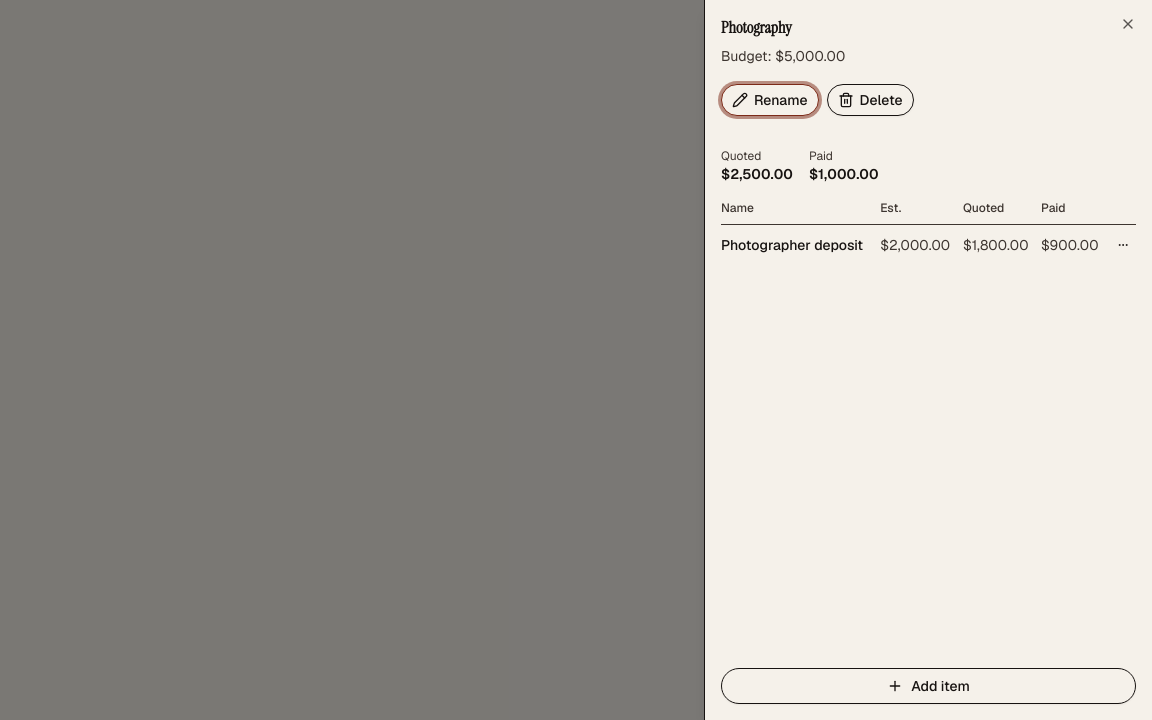
BudgetCategoryPanel › closes a pending delete dialog when the panel switches to a different category
Click the button named "Actions for Photographer deposit".
click(1122, 245)  # box [1110, 233, 1134, 257]
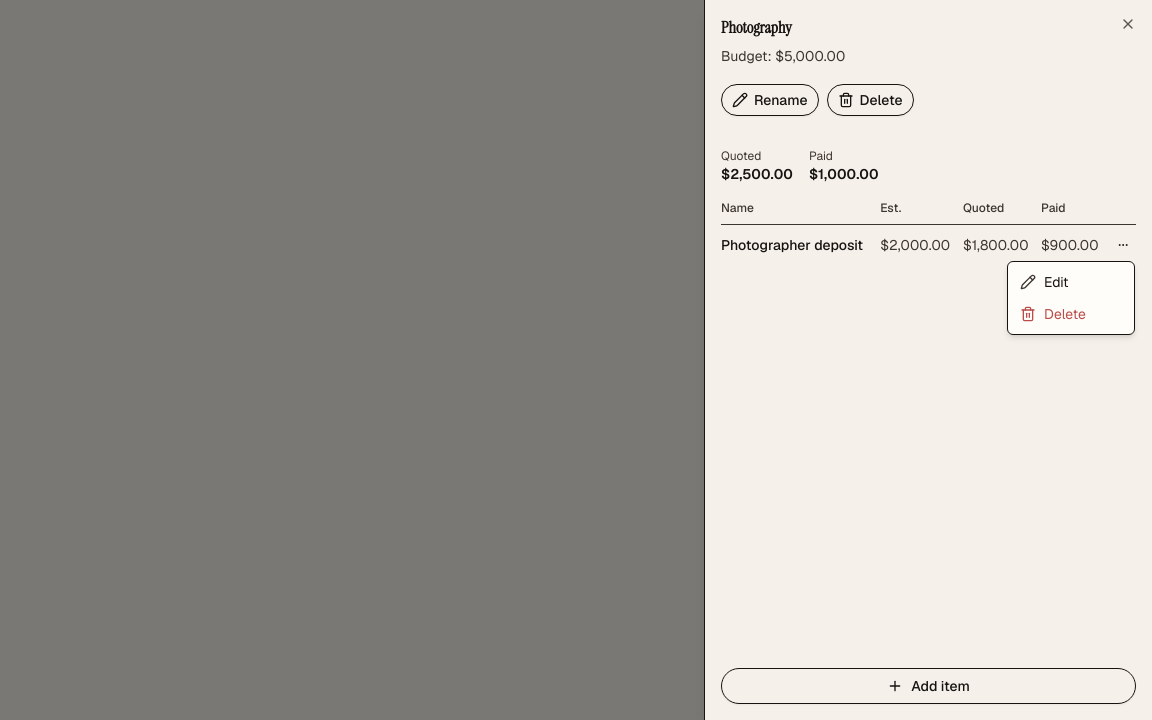
Click the menu item "Delete".
click(1053, 314)  # box [1020, 305, 1086, 323]
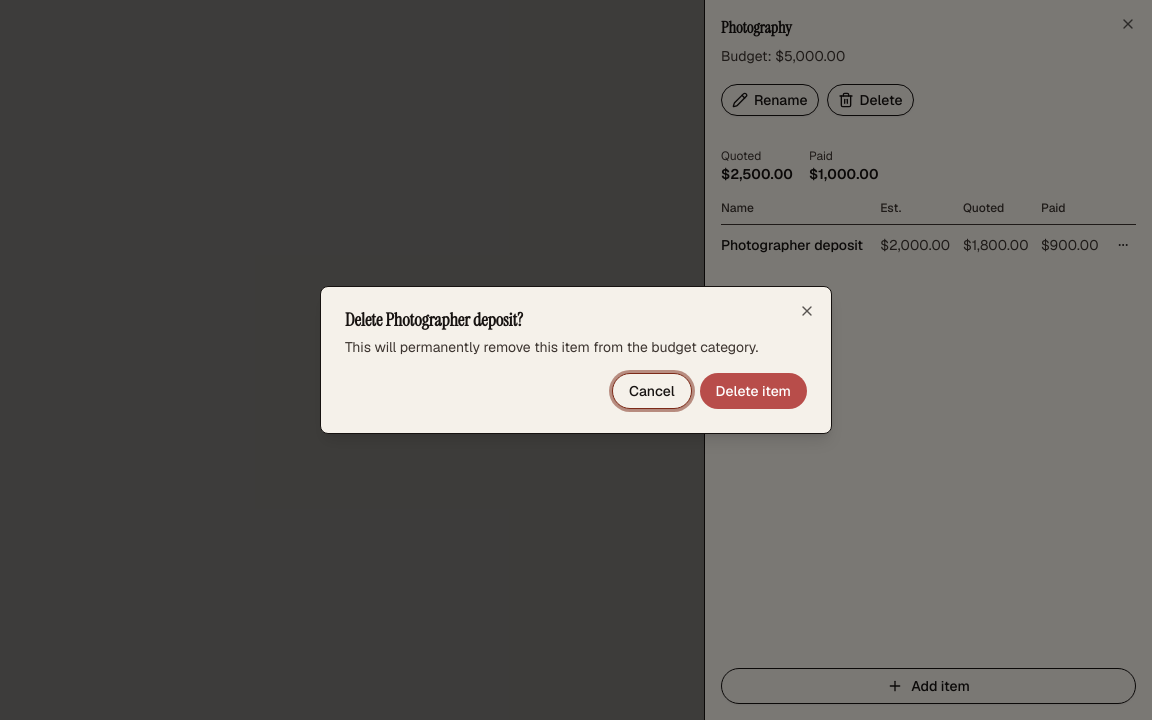
Expected: the heading "Delete Photographer deposit?" is shown, [345, 308, 523, 332]
